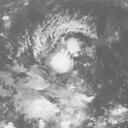cyclone: (32, 16, 97, 75)
